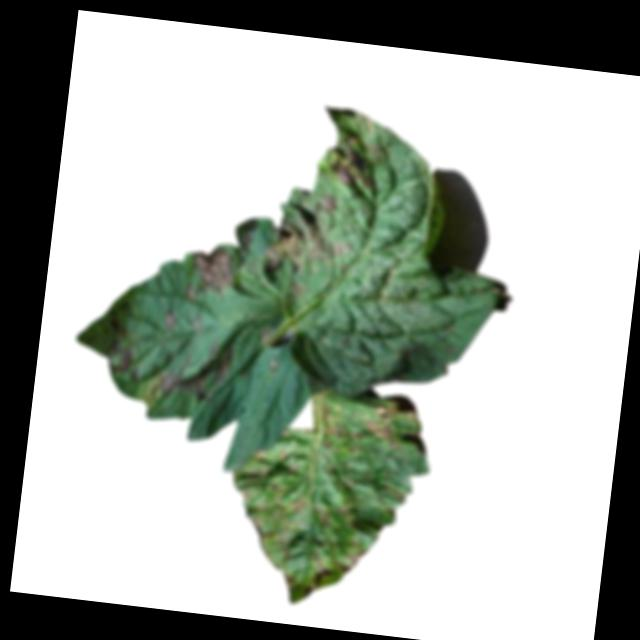Early_blight: (261, 185, 351, 276), (152, 327, 238, 405), (328, 129, 389, 190), (191, 241, 236, 296), (366, 400, 401, 442), (300, 554, 329, 601), (332, 542, 368, 577), (116, 341, 142, 382), (321, 422, 364, 443)
